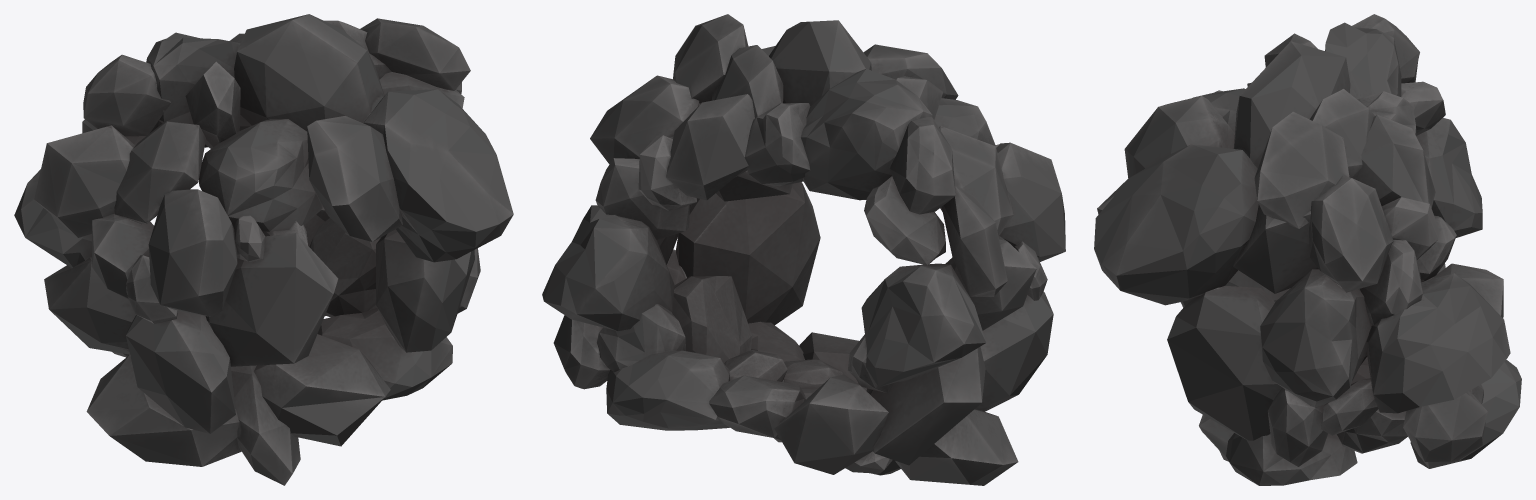
File: QSnake_CaveTop.fbx
3 views of the same model, side by side, from view 1: azimuth 30°, elevation 25°; view 2: azimuth 150°, elevation 25°; view 3: azimuth 270°, elevation 25° (orthographic). The views are drawn at different scales.
Visible parts, largest first — view 1: q_snake_cave; view 2: q_snake_cave; view 3: q_snake_cave.
Part boxes in pixels (x1,y1,x2,y2): q_snake_cave: (14,14,513,485); q_snake_cave: (542,14,1065,485); q_snake_cave: (1094,14,1521,485).
Bounding box in the file's own units: 68.94 × 61.31 × 70.35.
